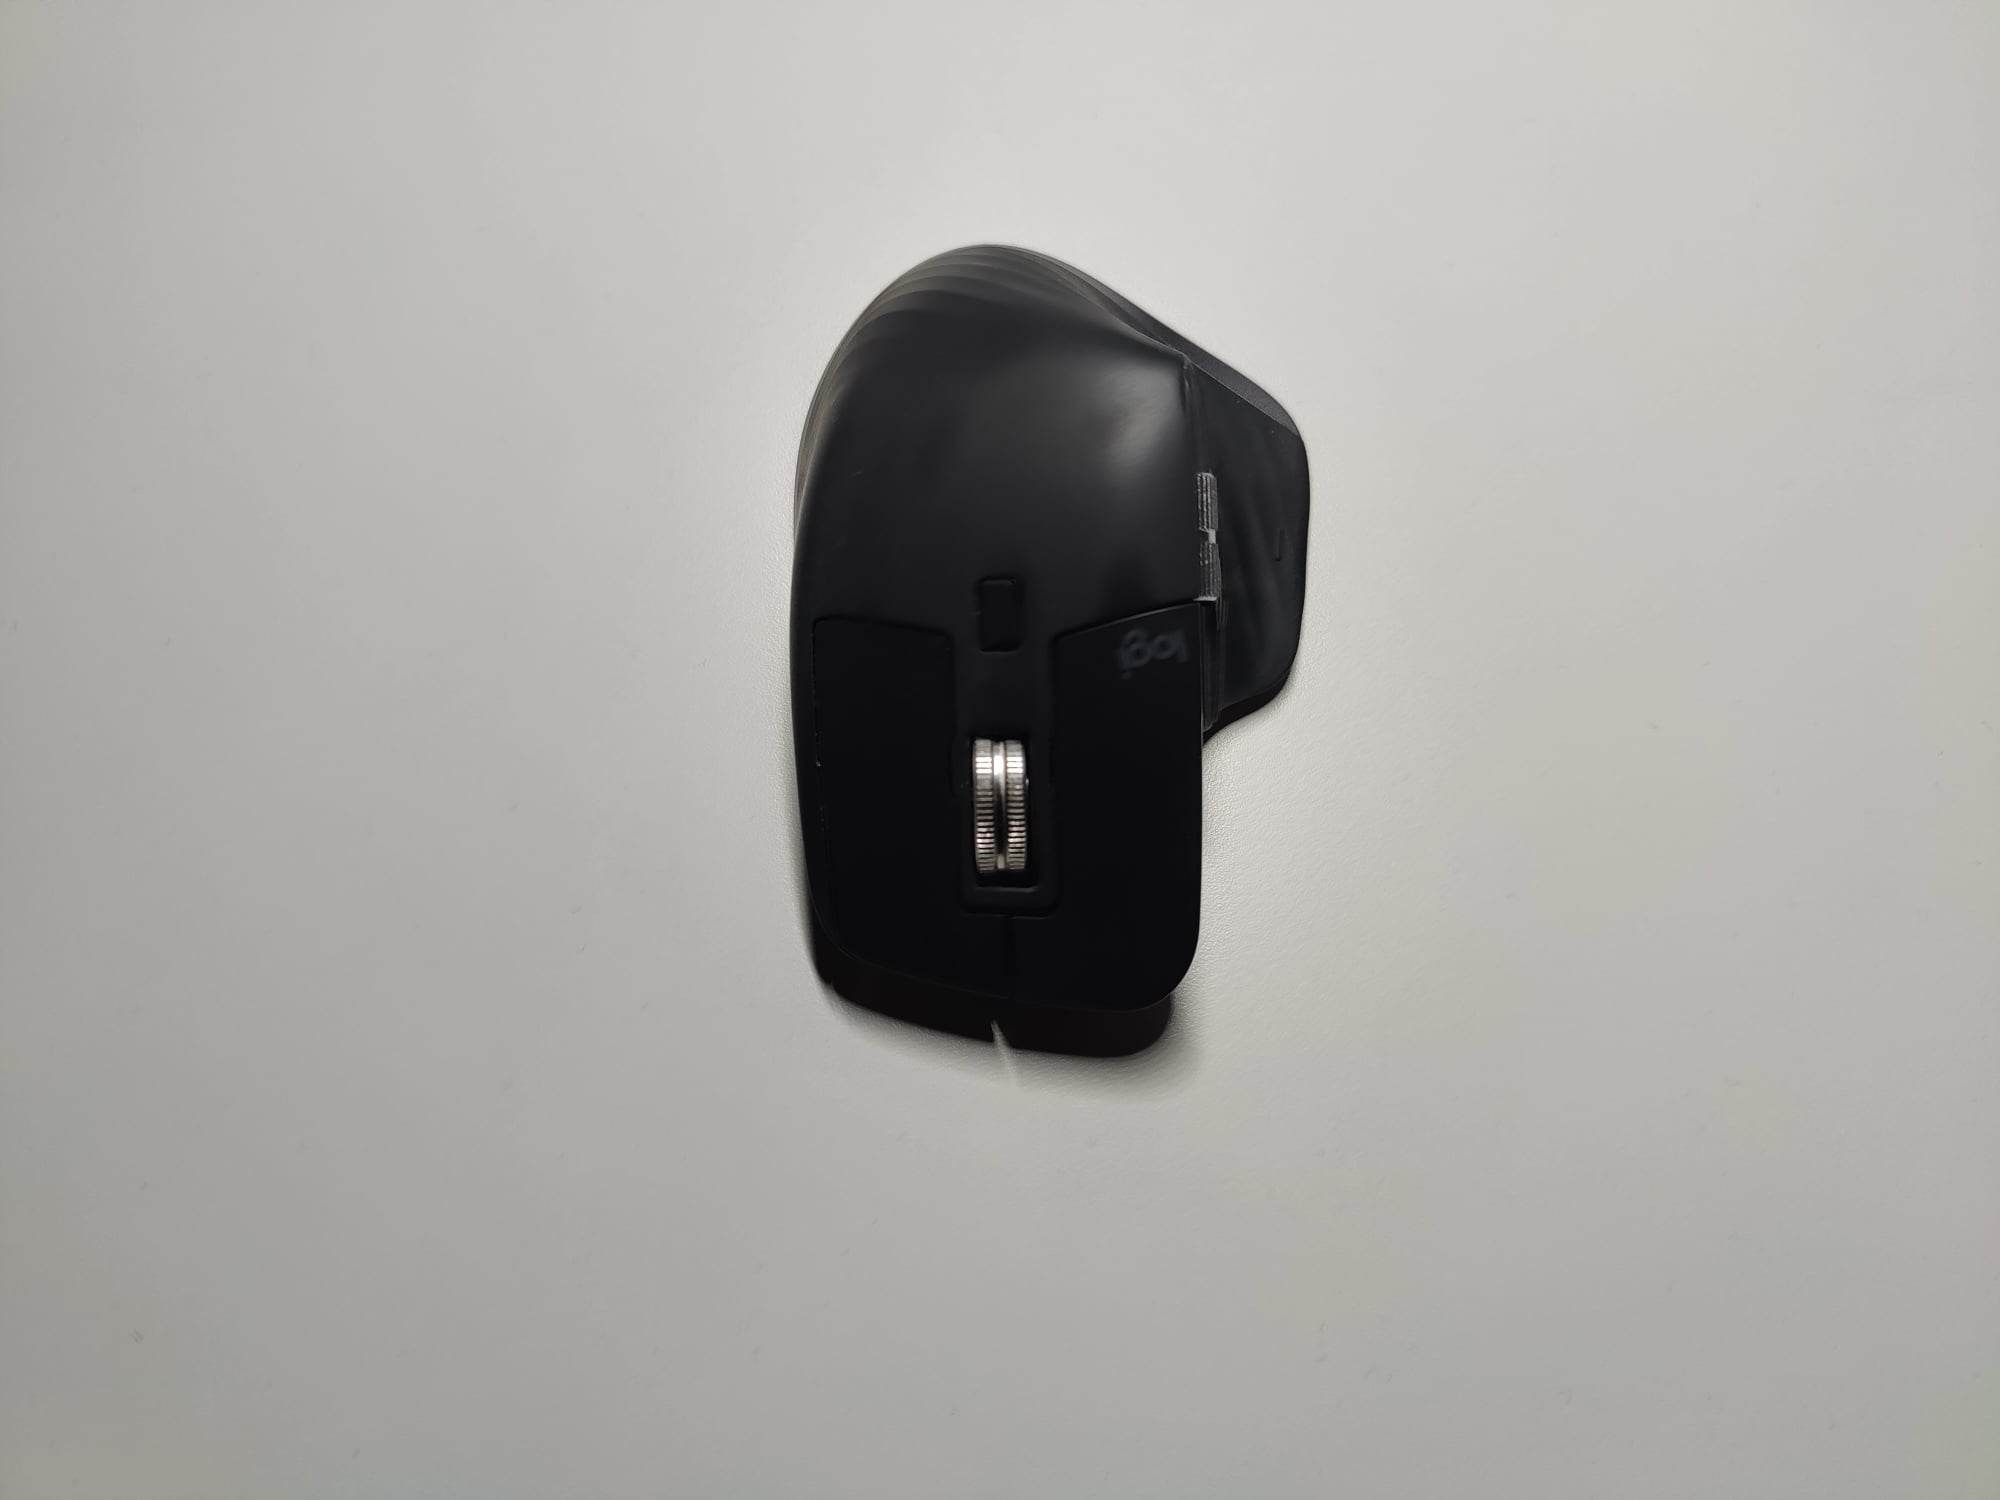Muis: (735, 214, 1337, 1092)
